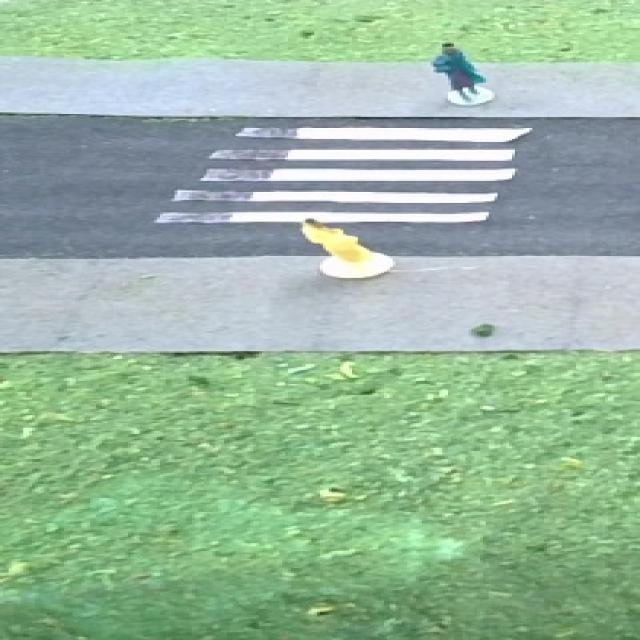person: (297, 216, 400, 284), (420, 38, 500, 108)
